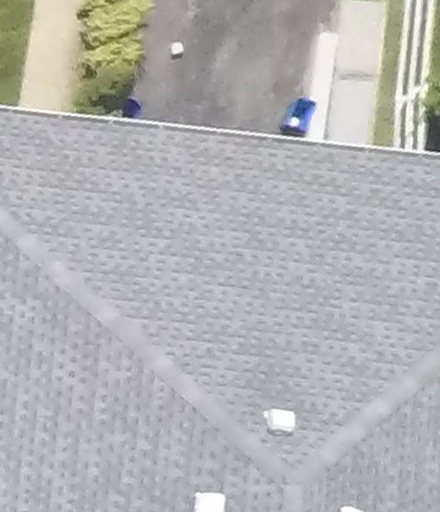container: (278, 93, 321, 131), (115, 92, 145, 121), (169, 36, 185, 60)
trash bin: (272, 84, 318, 135), (113, 86, 144, 121)
